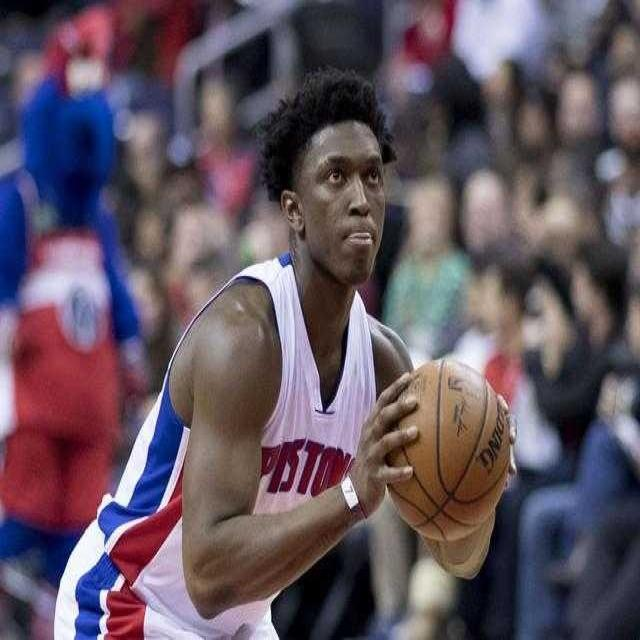Ball: (387, 359, 510, 542)
